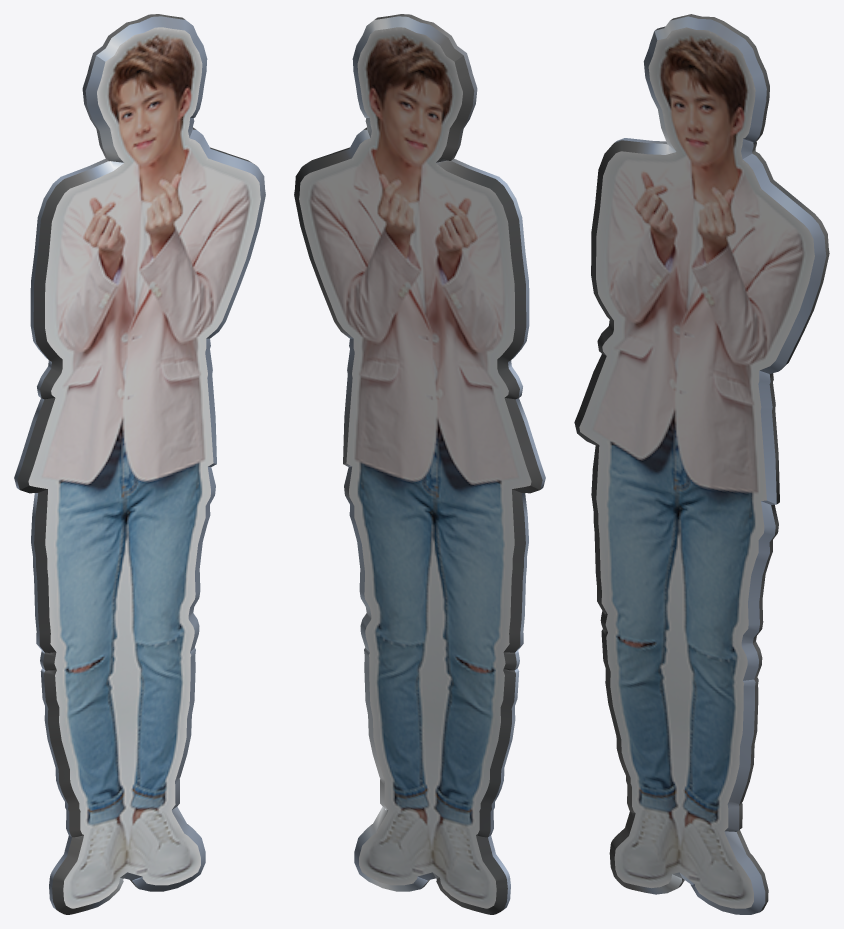
The model's file is panel_exok_5.FBX.
The picture shows the model from 3 angles, left to right: view 1: azimuth 30°, elevation 25°; view 2: azimuth 150°, elevation 25°; view 3: azimuth 330°, elevation 25°; orthographic projection.
Visible parts, largest first — view 1: panel_exok_5; view 2: panel_exok_5; view 3: panel_exok_5.
Boxes of the visible parts, <box> form: panel_exok_5: <box>14,14,265,914</box>; panel_exok_5: <box>294,14,545,914</box>; panel_exok_5: <box>574,14,829,914</box>.
Bounding box in the file's own units: 59.39 × 200 × 3.93.
2 materials, 2 textured.
